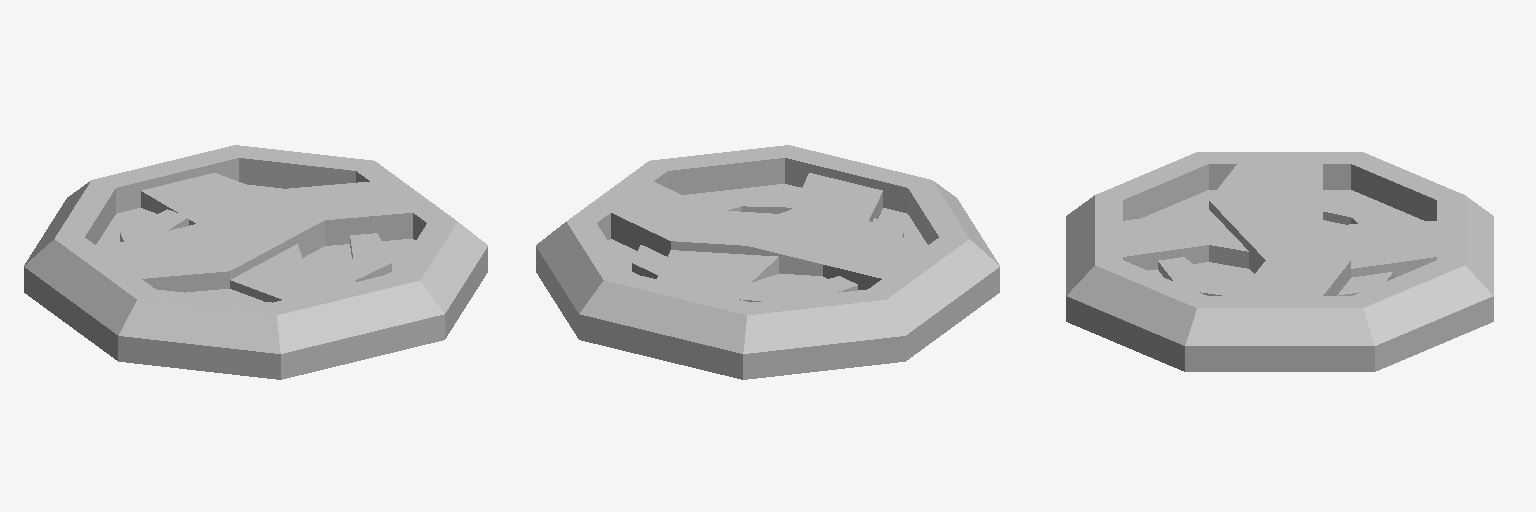
File: octacoin lightning.obj
3 views of the same model, side by side, from view 1: azimuth 30°, elevation 25°; view 2: azimuth 150°, elevation 25°; view 3: azimuth 270°, elevation 25° (orthographic).
Visible parts, largest first — view 1: Mesh1 Model; view 2: Mesh1 Model; view 3: Mesh1 Model.
Part boxes in pixels (bbox=[...]): Mesh1 Model: bbox=[24, 145, 487, 379]; Mesh1 Model: bbox=[536, 145, 999, 379]; Mesh1 Model: bbox=[1066, 152, 1493, 371].
Size of the model in its own units: 15 by 2 by 15.01.